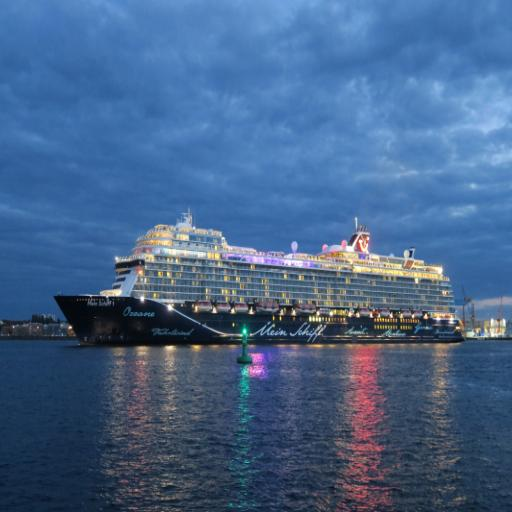cruises: (52, 206, 470, 354)
